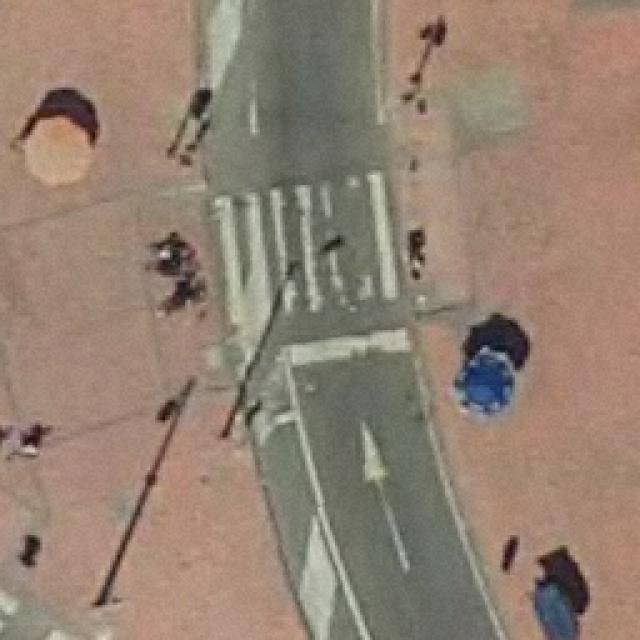vendedor_ambulante: (21, 111, 98, 188), (452, 344, 522, 422)
